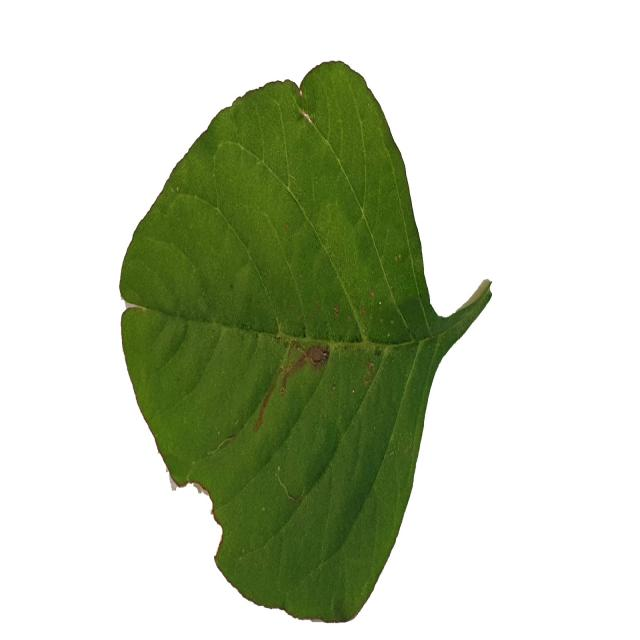Medicinal-Arive Dantu: (118, 58, 494, 632)
